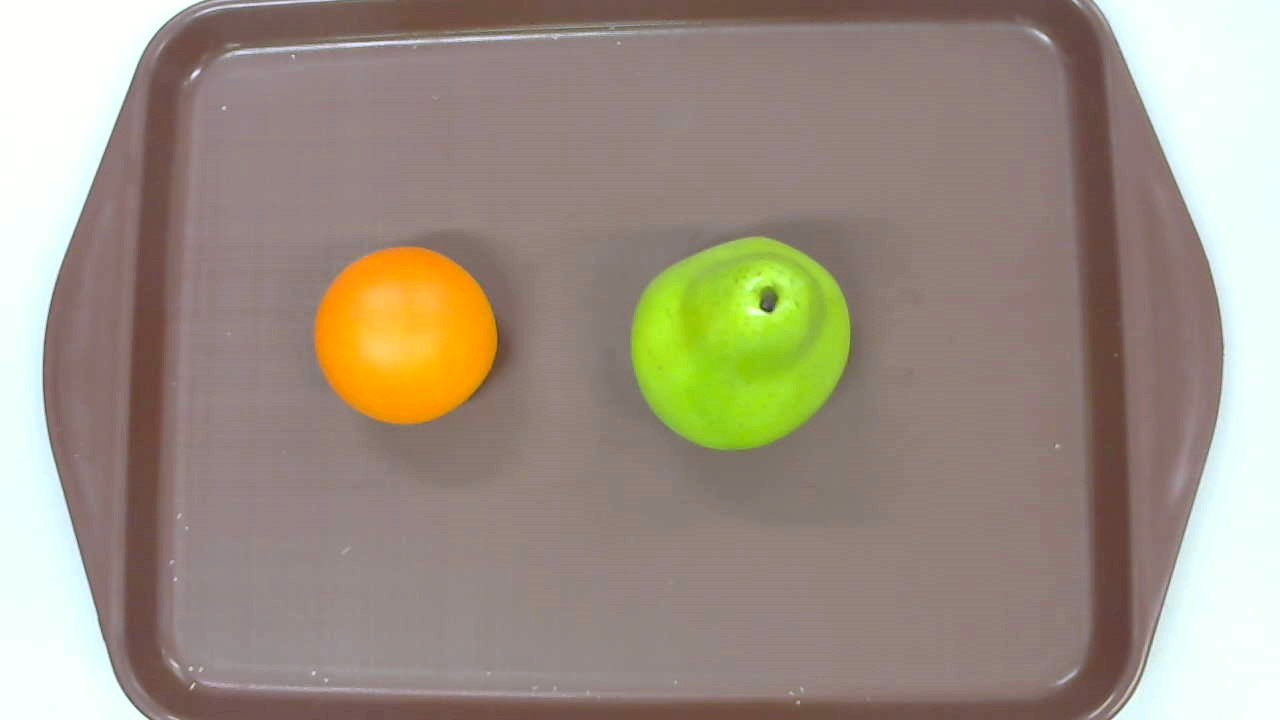bun: (313, 245, 497, 427)
green pear: (630, 236, 849, 453)
